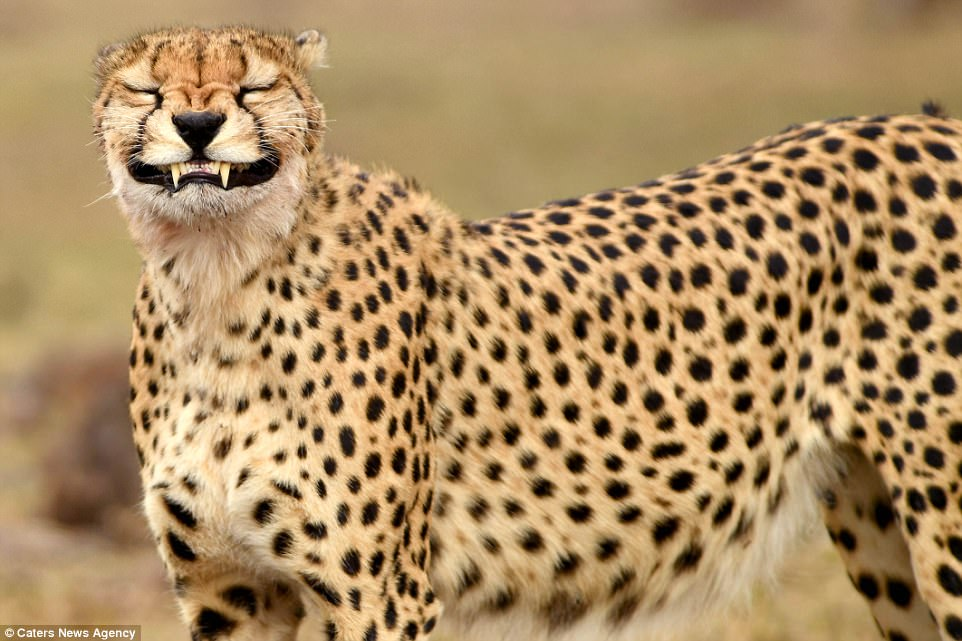Cheetah: (71, 24, 962, 637)
